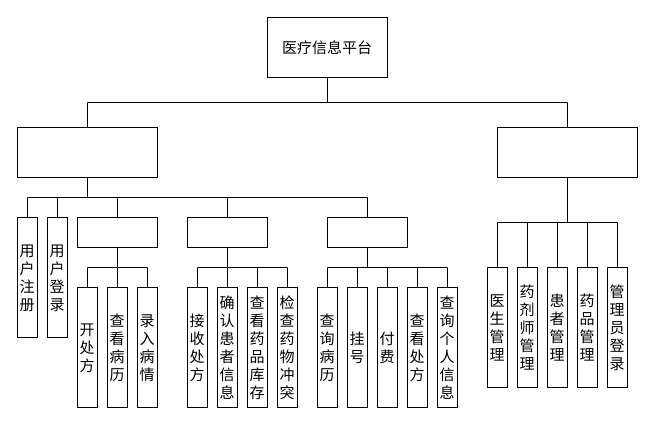
Image size: 655x425. Some labels were removed from this diagram. The shapes that lost their labels are listed below. From the top down, each one's centre as x and y in pixels, then its label:
At point 87,152: "前台".
At point 567,152: "后台".
At point 117,232: "医生".
At point 227,232: "药剂师".
At point 367,232: "患者".
